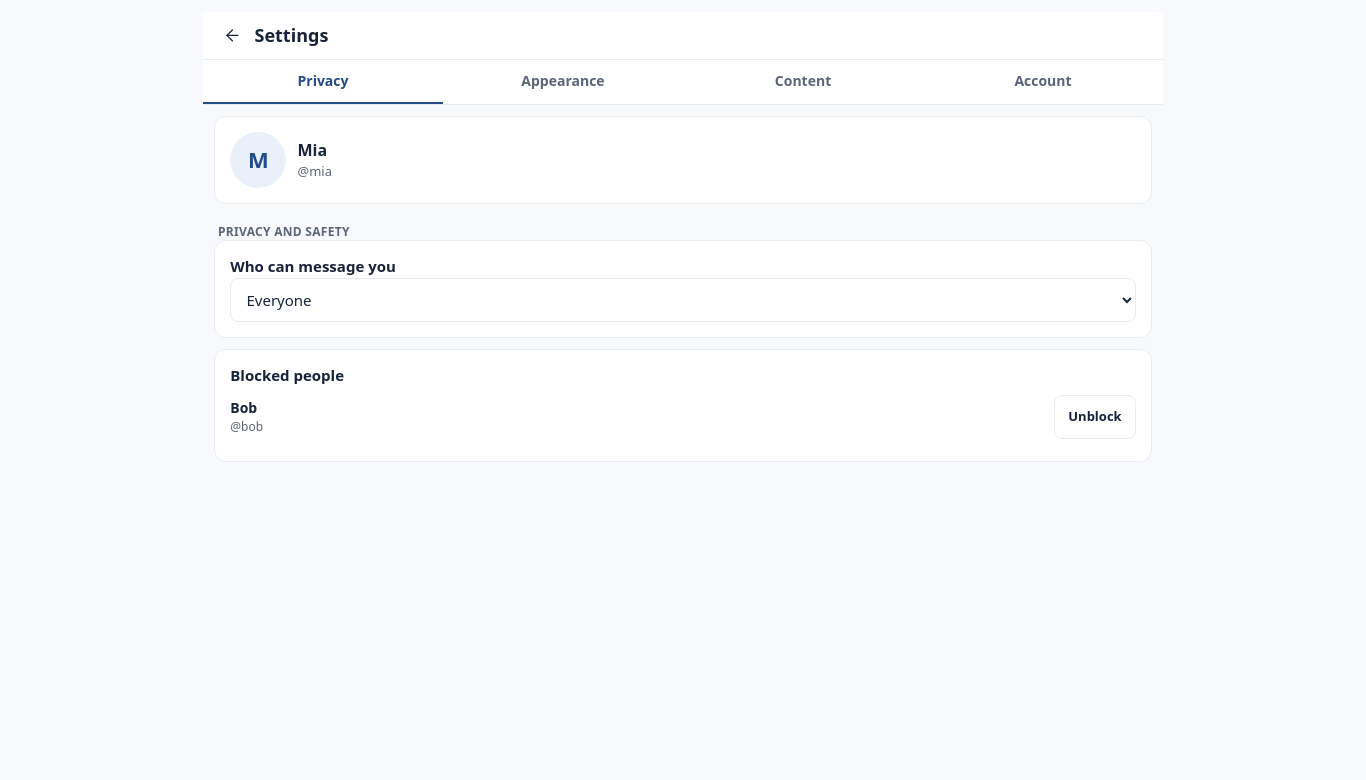
Test case: Settings page › unblocks, removes an interest and removes a sticker from the library
Click the button "Unblock" at [1095, 417], box left=1054, top=395, right=1136, bottom=439
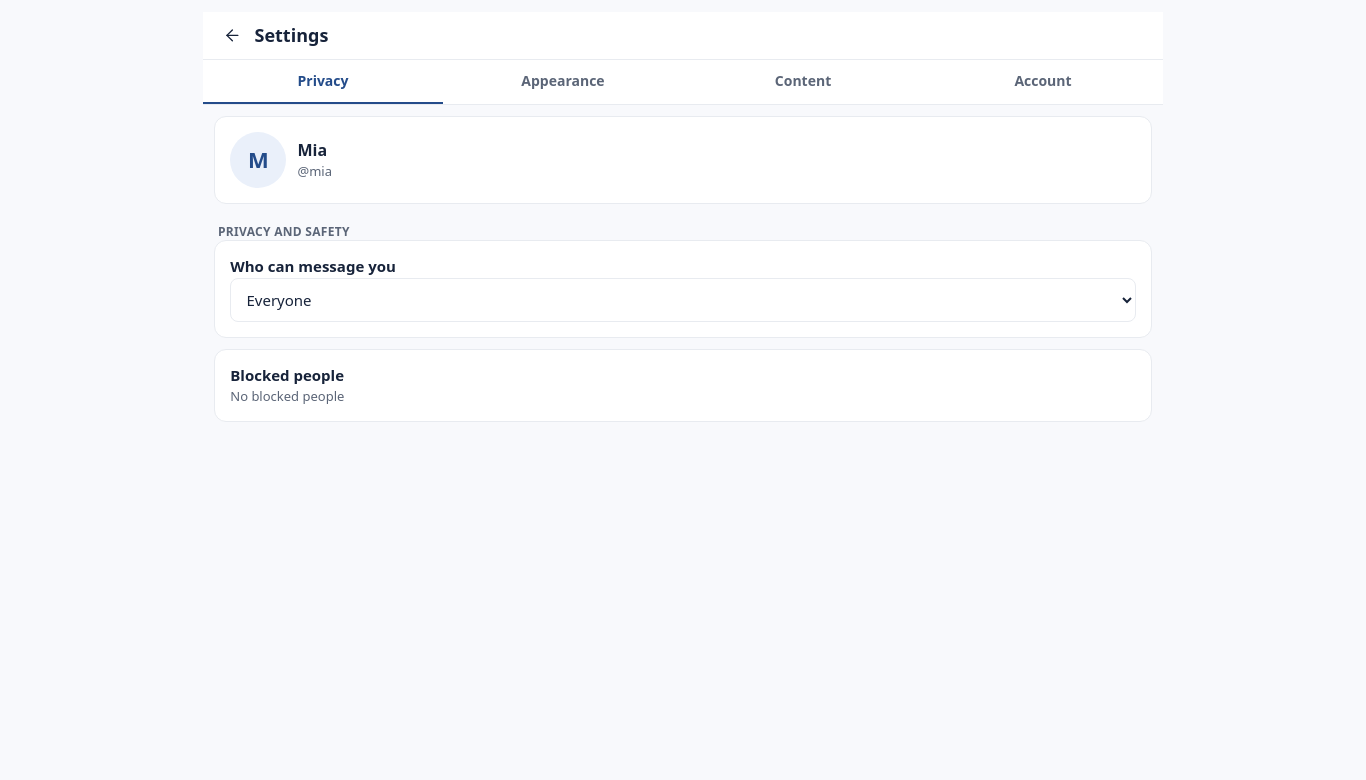
Check: the text "No blocked people" is shown, box left=230, top=387, right=344, bottom=405
Click the tab "Content" at [803, 82], box left=683, top=60, right=923, bottom=104
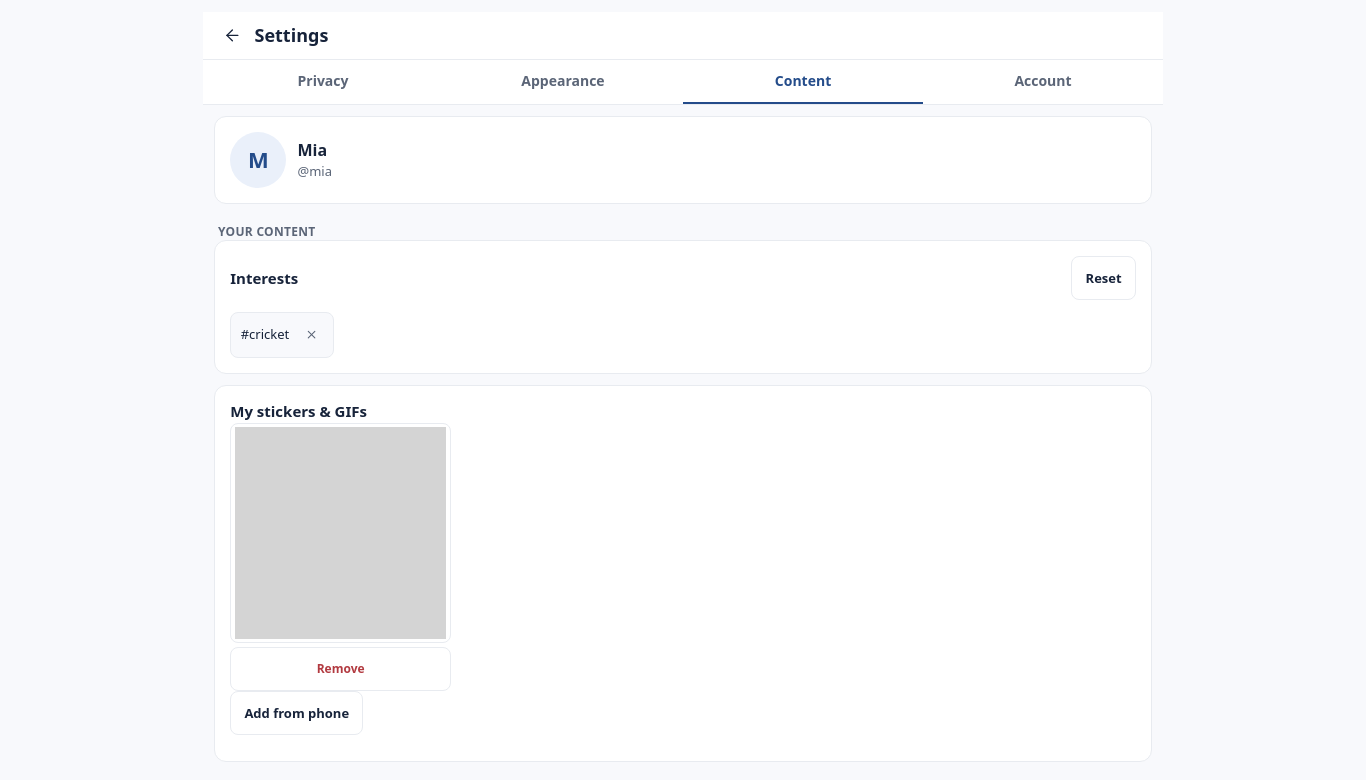
Click the button named "Remove #cricket" at [311, 335], box left=289, top=313, right=333, bottom=357
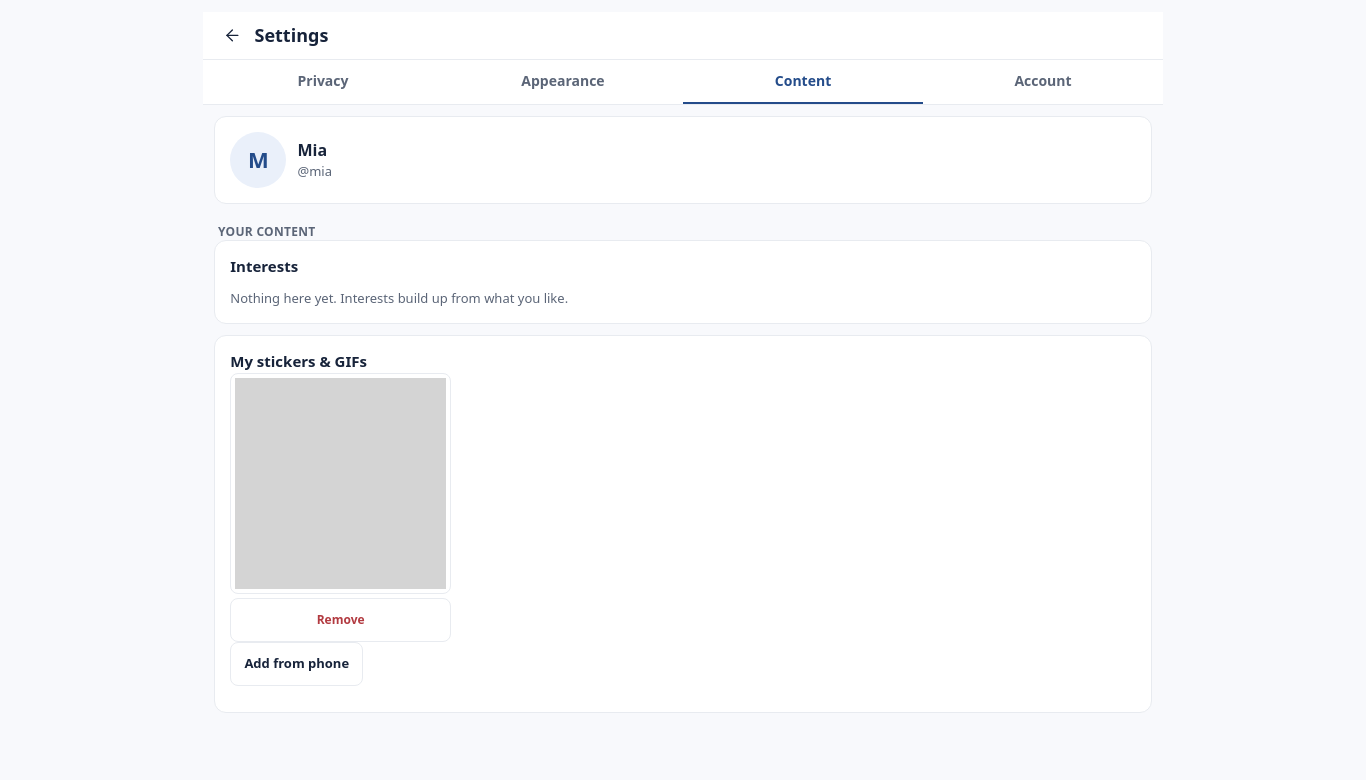
Check: the text "#cricket" is gone
Click the button "Remove" at [341, 620], box left=230, top=598, right=451, bottom=642
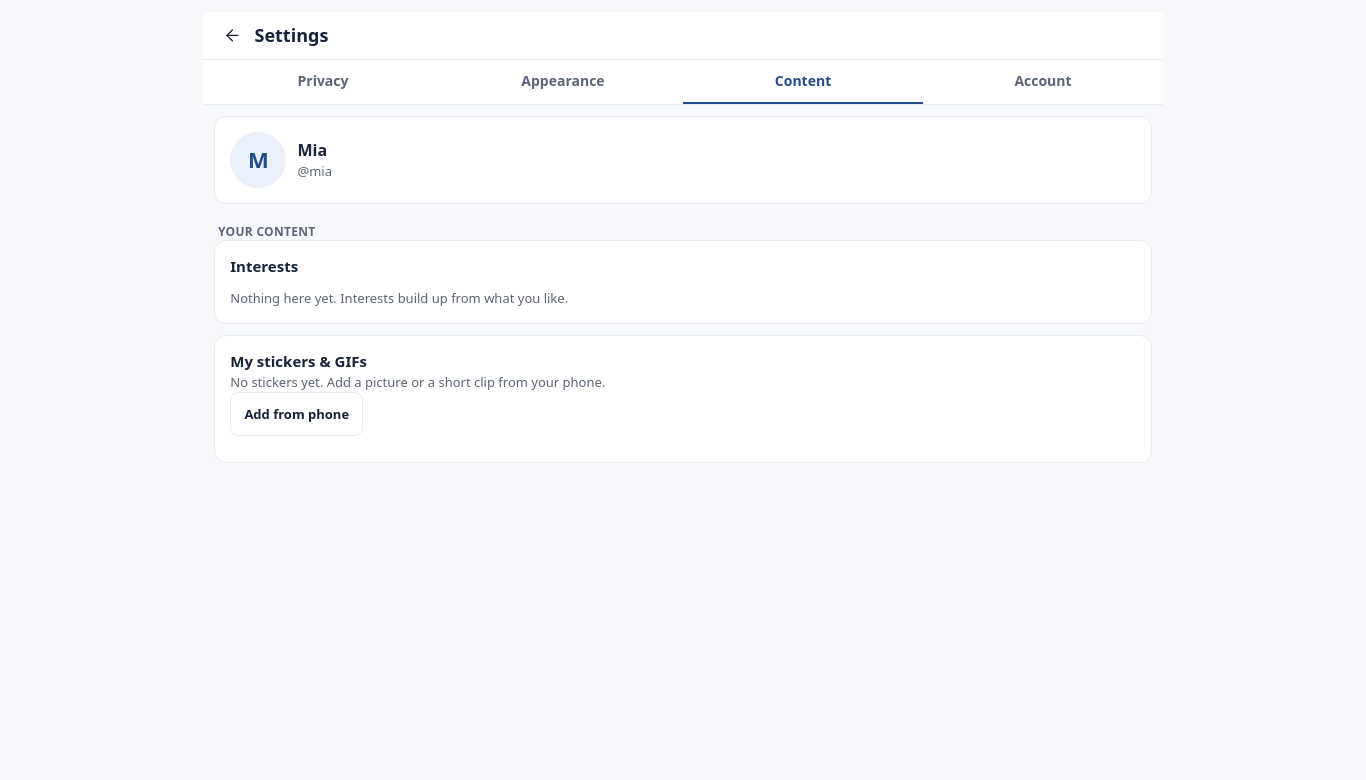
Check: the text "No stickers yet" is shown, box left=230, top=373, right=605, bottom=391
